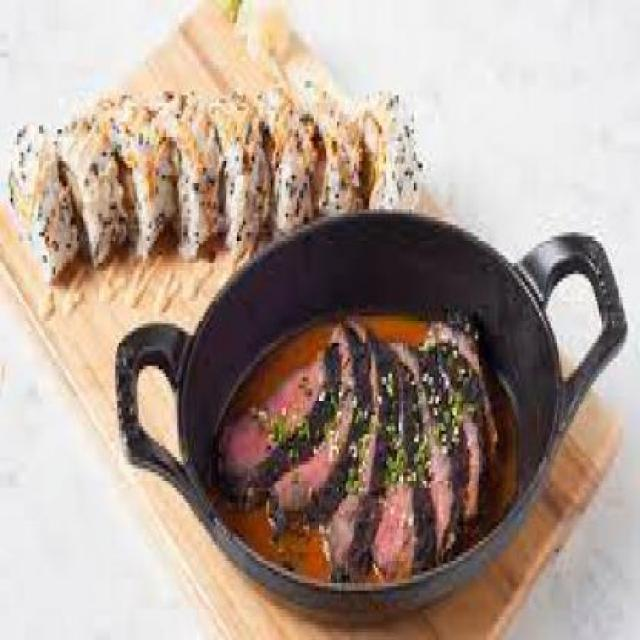steak: (212, 290, 520, 598)
sushi: (4, 68, 422, 267)
